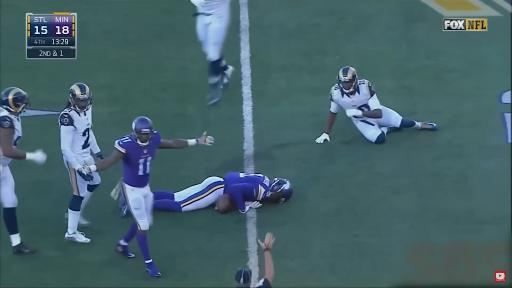Helmet: (0, 87, 30, 113), (69, 82, 92, 112), (132, 116, 154, 146), (337, 66, 358, 95), (270, 178, 293, 203)
Jersey: (115, 131, 161, 187), (330, 79, 381, 113), (224, 173, 269, 211), (59, 107, 92, 158), (0, 108, 22, 147), (197, 0, 230, 14)
Player: (84, 117, 213, 277), (316, 67, 437, 143), (0, 87, 46, 254), (59, 83, 102, 243), (154, 173, 292, 211), (191, 0, 234, 105), (224, 173, 292, 213), (153, 176, 224, 211)
